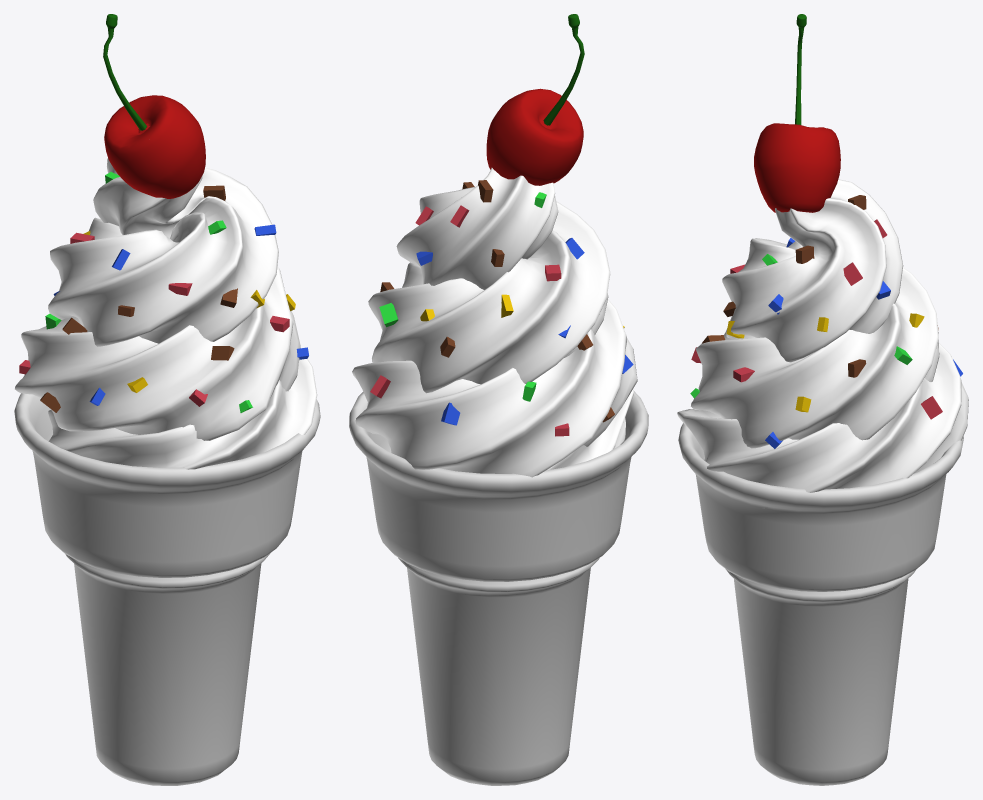
The model's file is IceCreamBasic2.fbx.
3 views of the same model, side by side, from view 1: azimuth 30°, elevation 25°; view 2: azimuth 150°, elevation 25°; view 3: azimuth 270°, elevation 25° (orthographic). The views are drawn at different scales.
Visible parts, largest first — view 1: Cone.002, Cream, Cherry.003, Box003.007; view 2: Cream, Cone.002, Cherry.003, Box003.007; view 3: Cream, Cone.002, Cherry.003, Box003.007.
Part boxes in pixels (<box>): Cone.002: <box>14,393,320,785</box>; Cream: <box>15,158,317,469</box>; Cherry.003: <box>103,14,205,198</box>; Box003.007: <box>19,172,308,412</box>; Cream: <box>352,167,637,477</box>; Cone.002: <box>349,390,648,785</box>; Cherry.003: <box>486,14,584,185</box>; Box003.007: <box>370,180,633,436</box>; Cream: <box>677,179,968,508</box>; Cone.002: <box>678,423,963,785</box>; Cherry.003: <box>754,14,840,212</box>; Box003.007: <box>690,195,962,448</box>.
Bounding box in the file's own units: 285 × 790 × 291.
